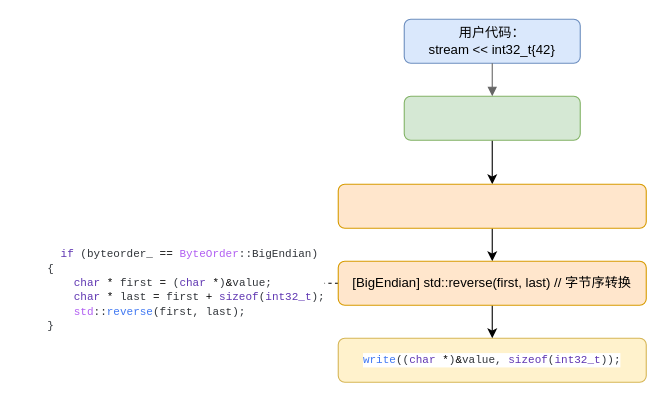
The diagram is 666 pixels wide and 402 high, and some of its shapes have lost their labels. Each missing label, with the box of its shape:
operator<<(int32_t) -> write(int32_t): (403, 95, 580, 140)
写入 INT32 tag: write(&type, 1): (337, 183, 646, 228)
